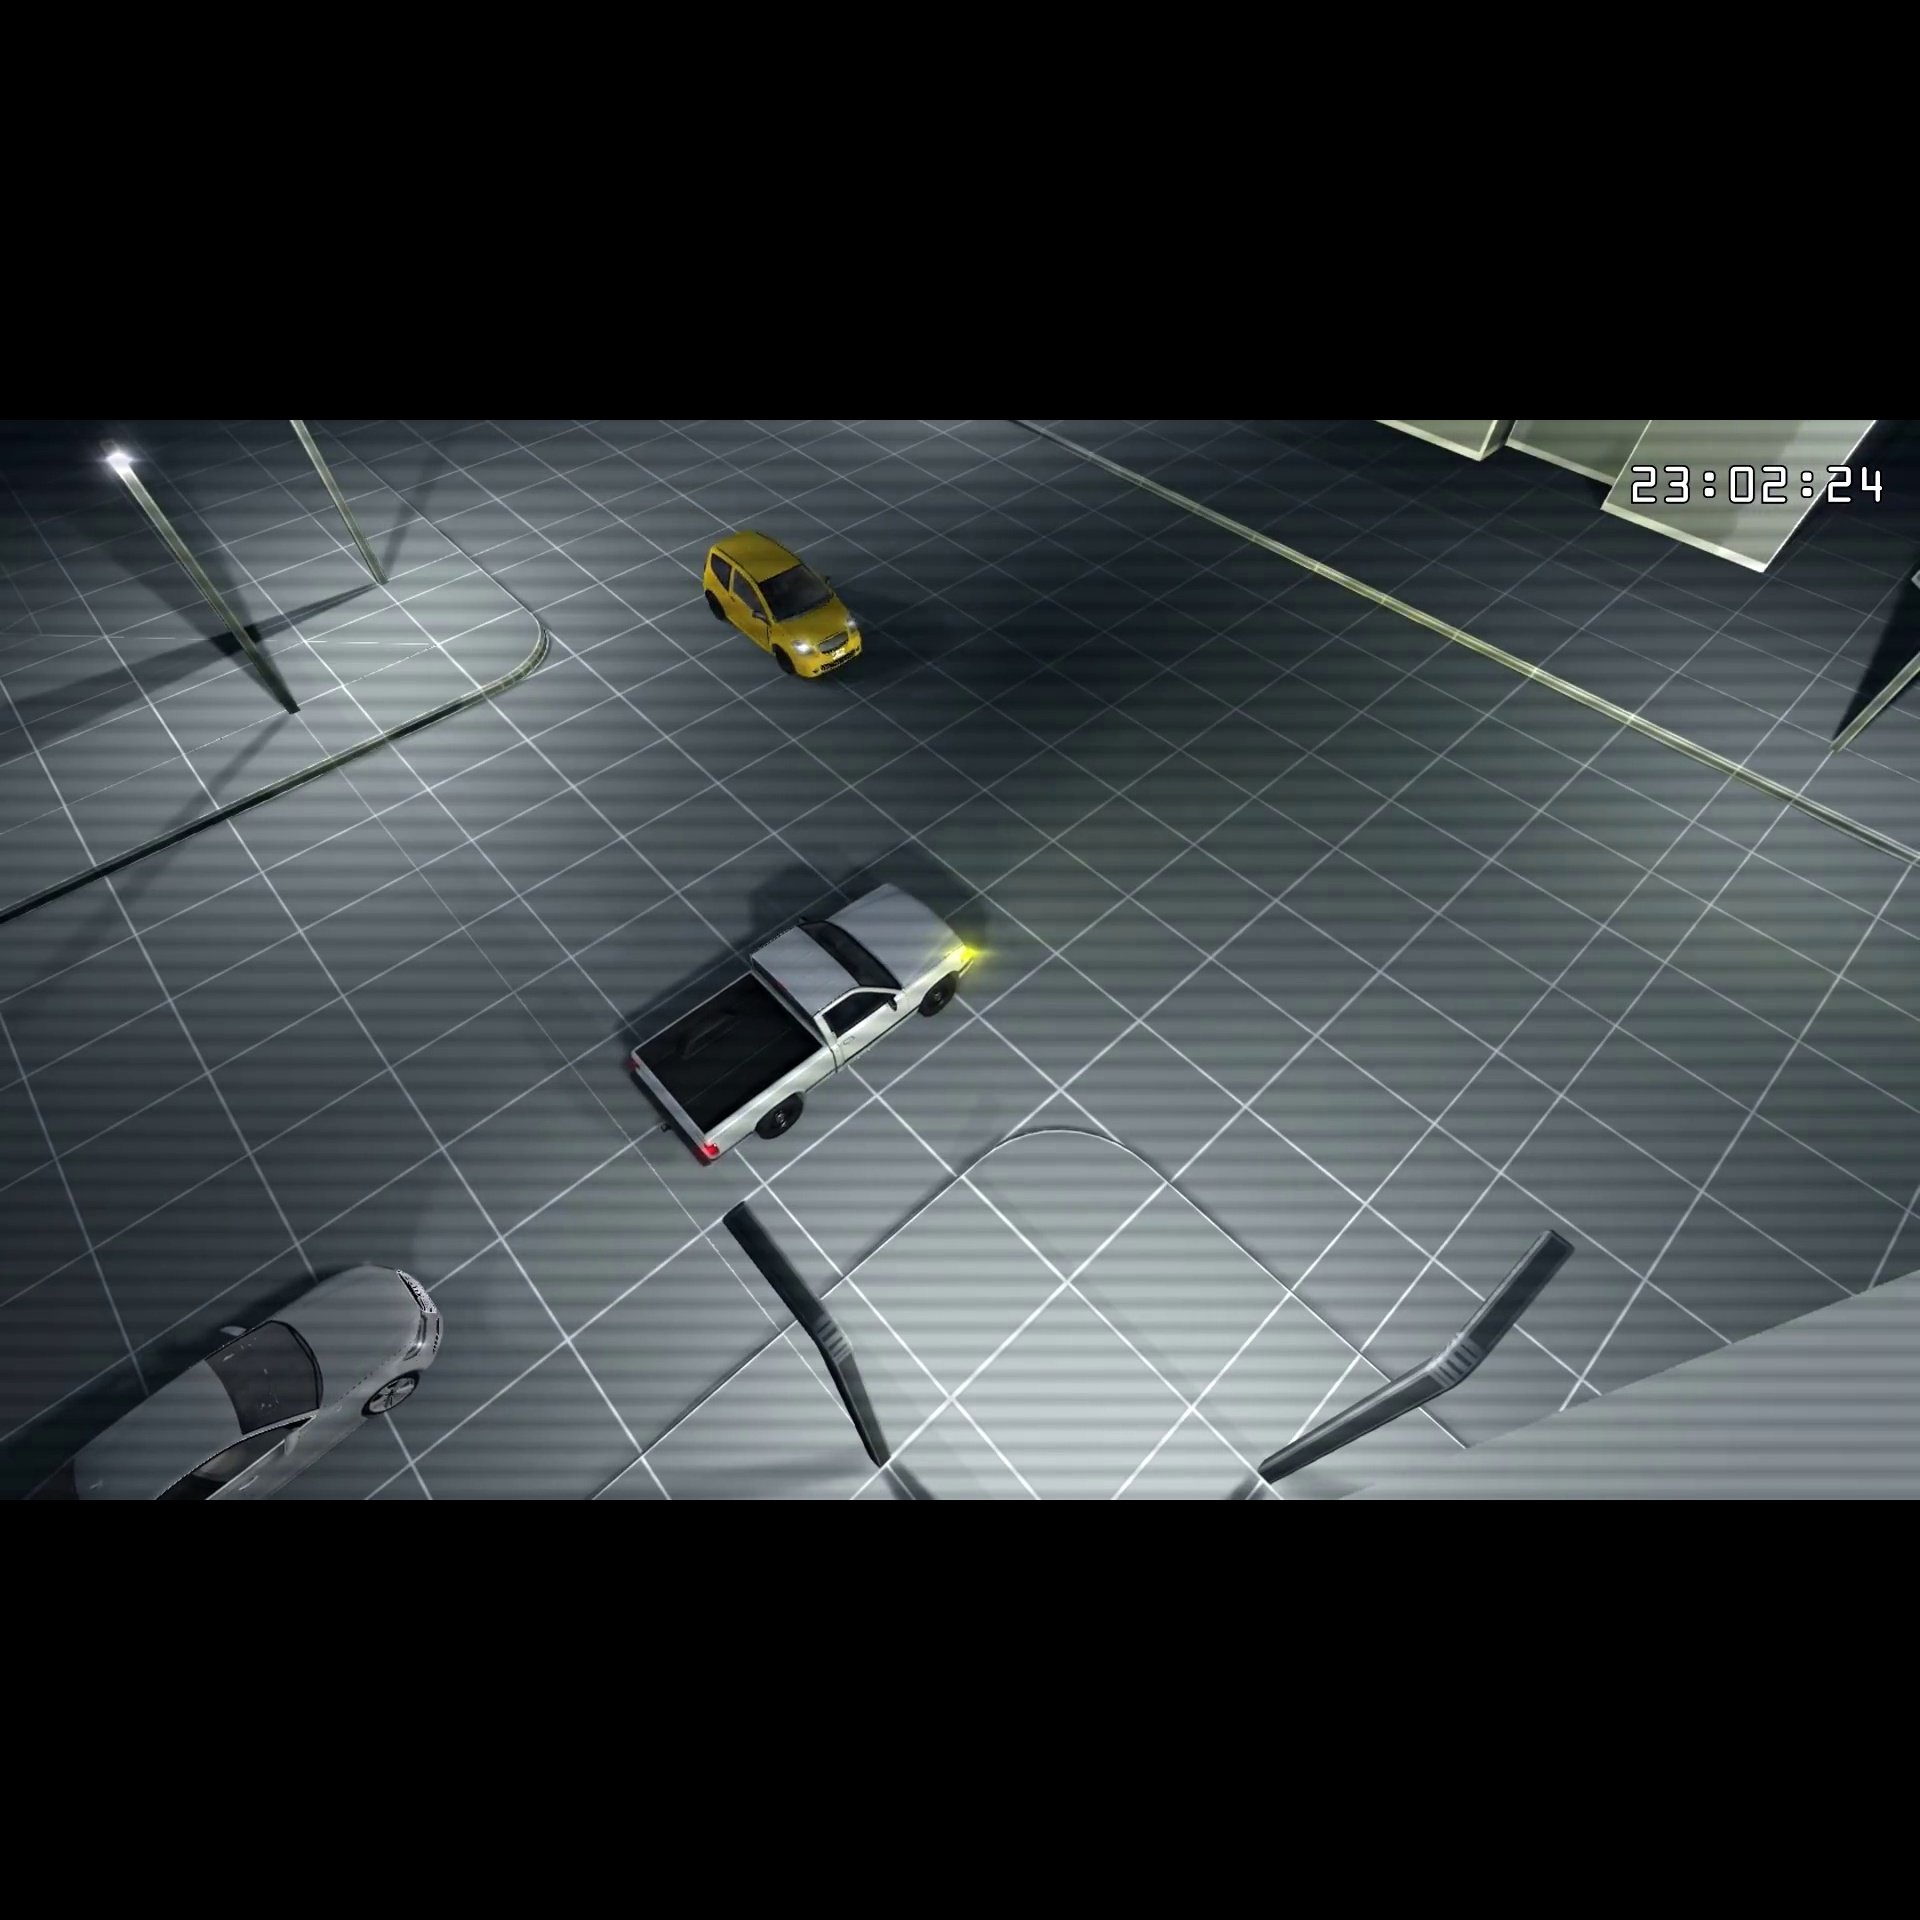vehicle: (4, 1252, 459, 1502), (617, 872, 983, 1173), (695, 522, 867, 686)
